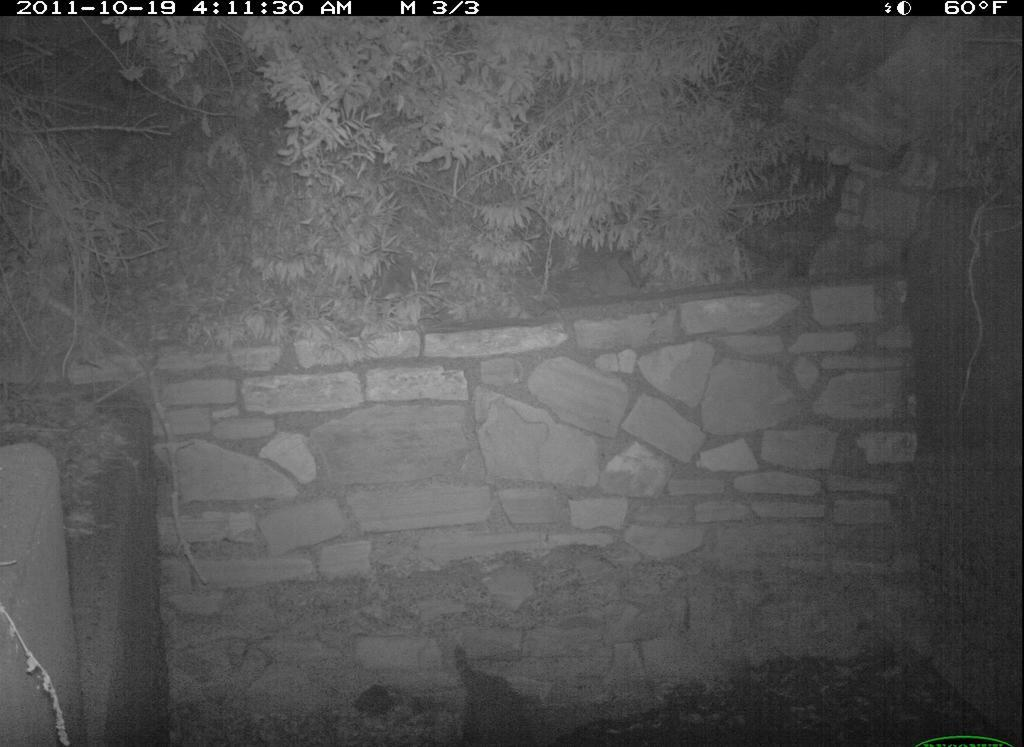raccoon: (455, 647, 551, 747)
